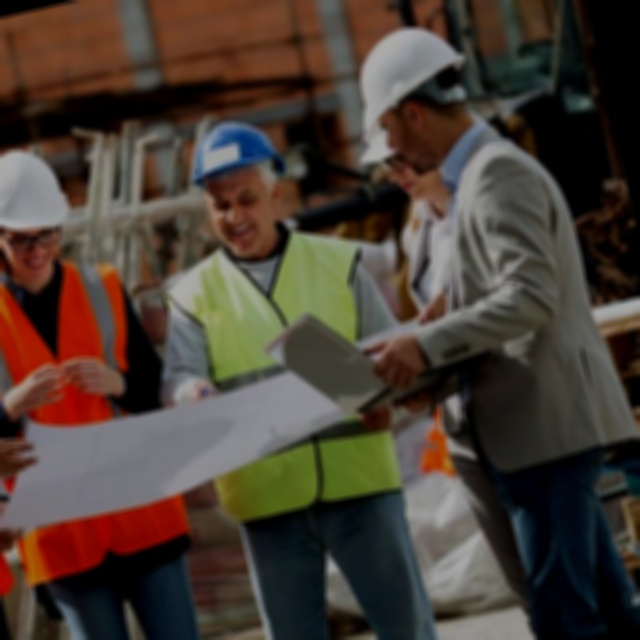Con_Casco: (340, 16, 484, 185), (176, 113, 299, 258), (0, 139, 81, 283)
Con_Chaleco: (161, 218, 413, 529), (0, 248, 190, 598)
Sin_Chaleco: (411, 134, 639, 480)
